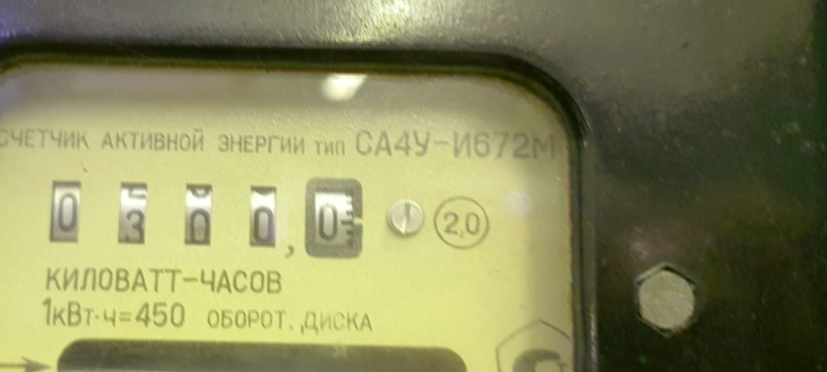0: (248, 202, 274, 246), (53, 187, 77, 234), (312, 199, 338, 242), (184, 204, 208, 245)
3: (120, 205, 143, 244)
screen: (26, 156, 381, 274)
